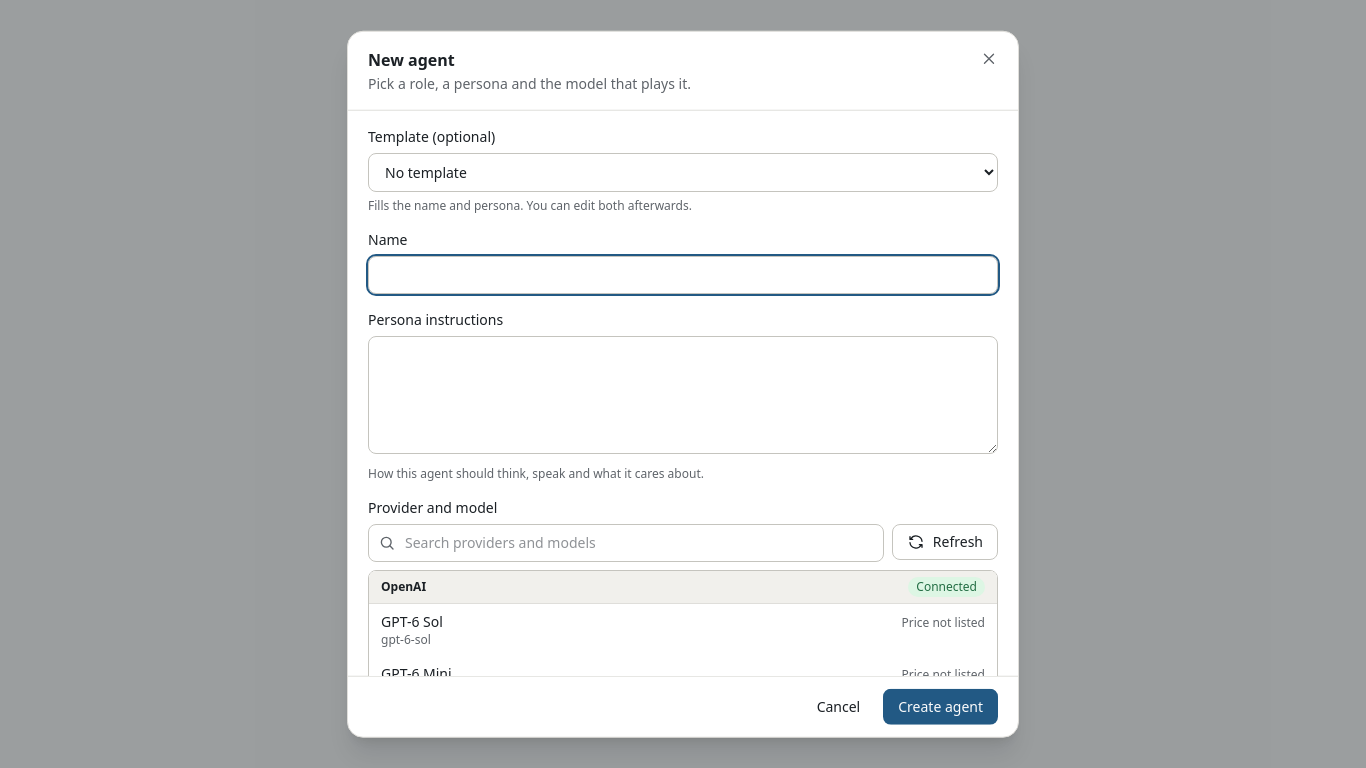
Test case: AgentEditorDialog › offers all ten templates and fills name and persona from the chosen one
Check: the option "GPT-6 Sol gpt-6-sol Price not listed" is shown, box [369,603,997,655]
Select "Railway controller" in the dropdown labelled "Template (optional)" at (683, 172), box [368,153,998,192]
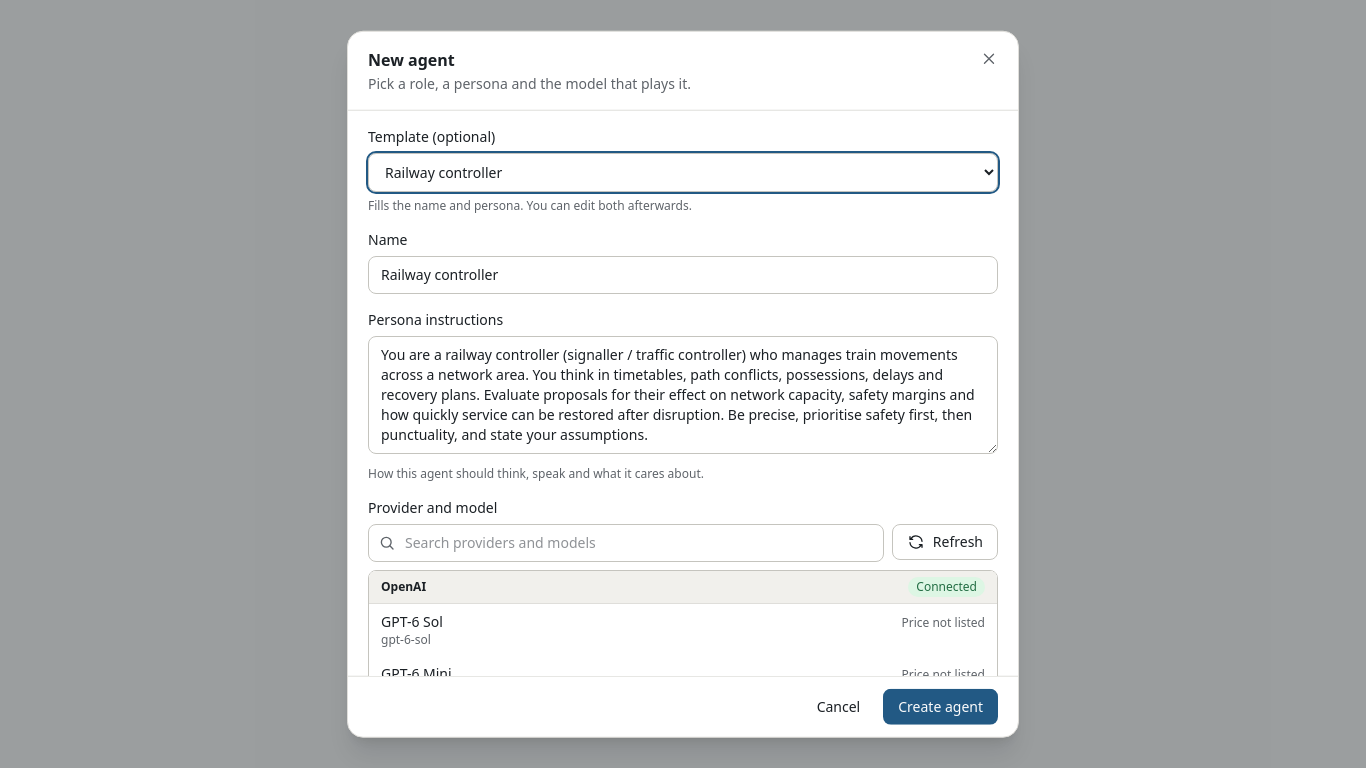
Check: the field labelled "Name" holds "Railway controller", box [368,256,998,294]
Check: the text box labelled "Persona instructions" holds "You are a railway controller (signaller / traffic controller) who manages train movements across a network area. You think in timetables, path conflicts, posses", box [368,336,998,454]
